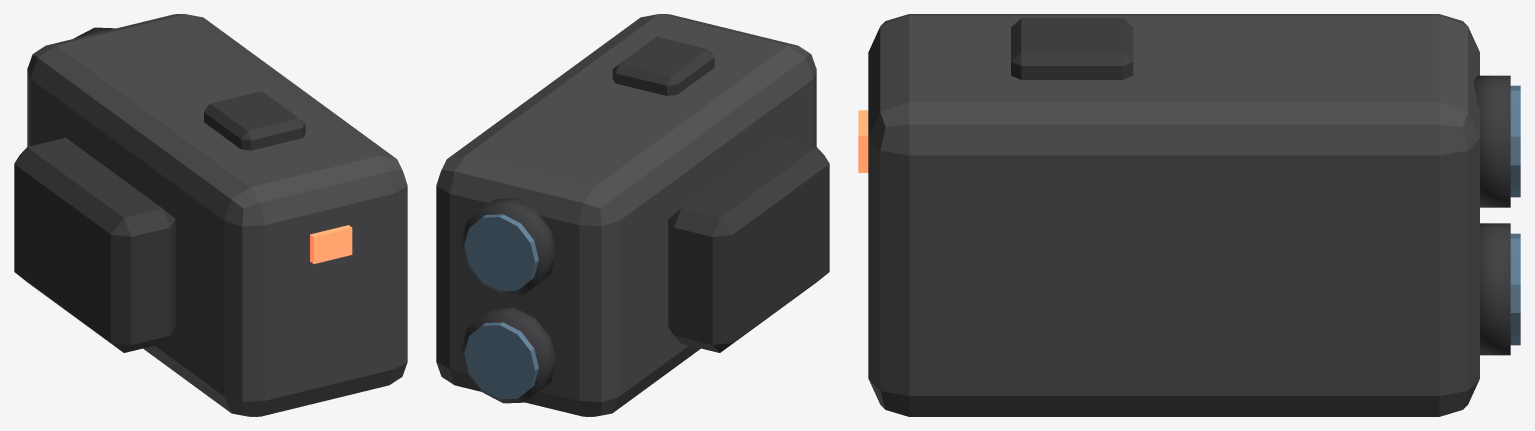
The model's file is part_dalkomer.glb.
The picture shows the model from 3 angles, left to right: view 1: azimuth 30°, elevation 25°; view 2: azimuth 150°, elevation 25°; view 3: azimuth 270°, elevation 25°; orthographic projection. The views are drawn at different scales.
Visible parts, largest first — view 1: Dalkomer; view 2: Dalkomer; view 3: Dalkomer.
Part boxes in pixels (box(x1,y1,x2,y2)): Dalkomer: box(14, 14, 407, 416); Dalkomer: box(436, 14, 829, 416); Dalkomer: box(858, 14, 1520, 416).
Bounding box in the file's own units: 0.038 × 0.0365 × 0.065.
